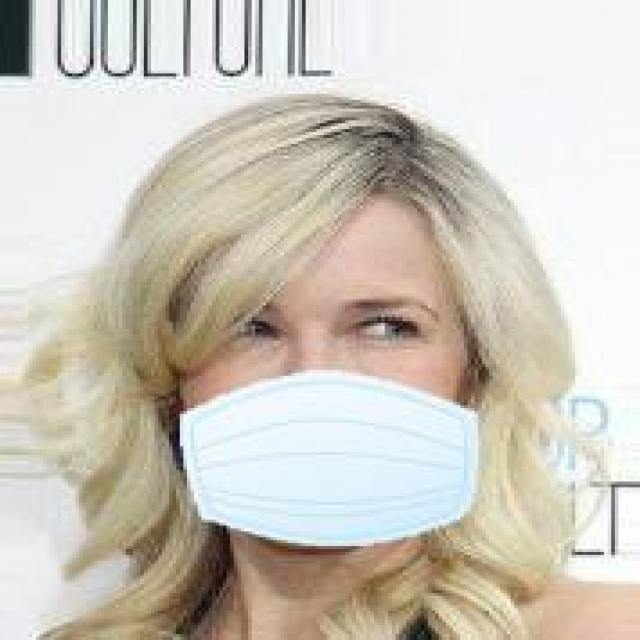mask: (137, 82, 525, 561)
